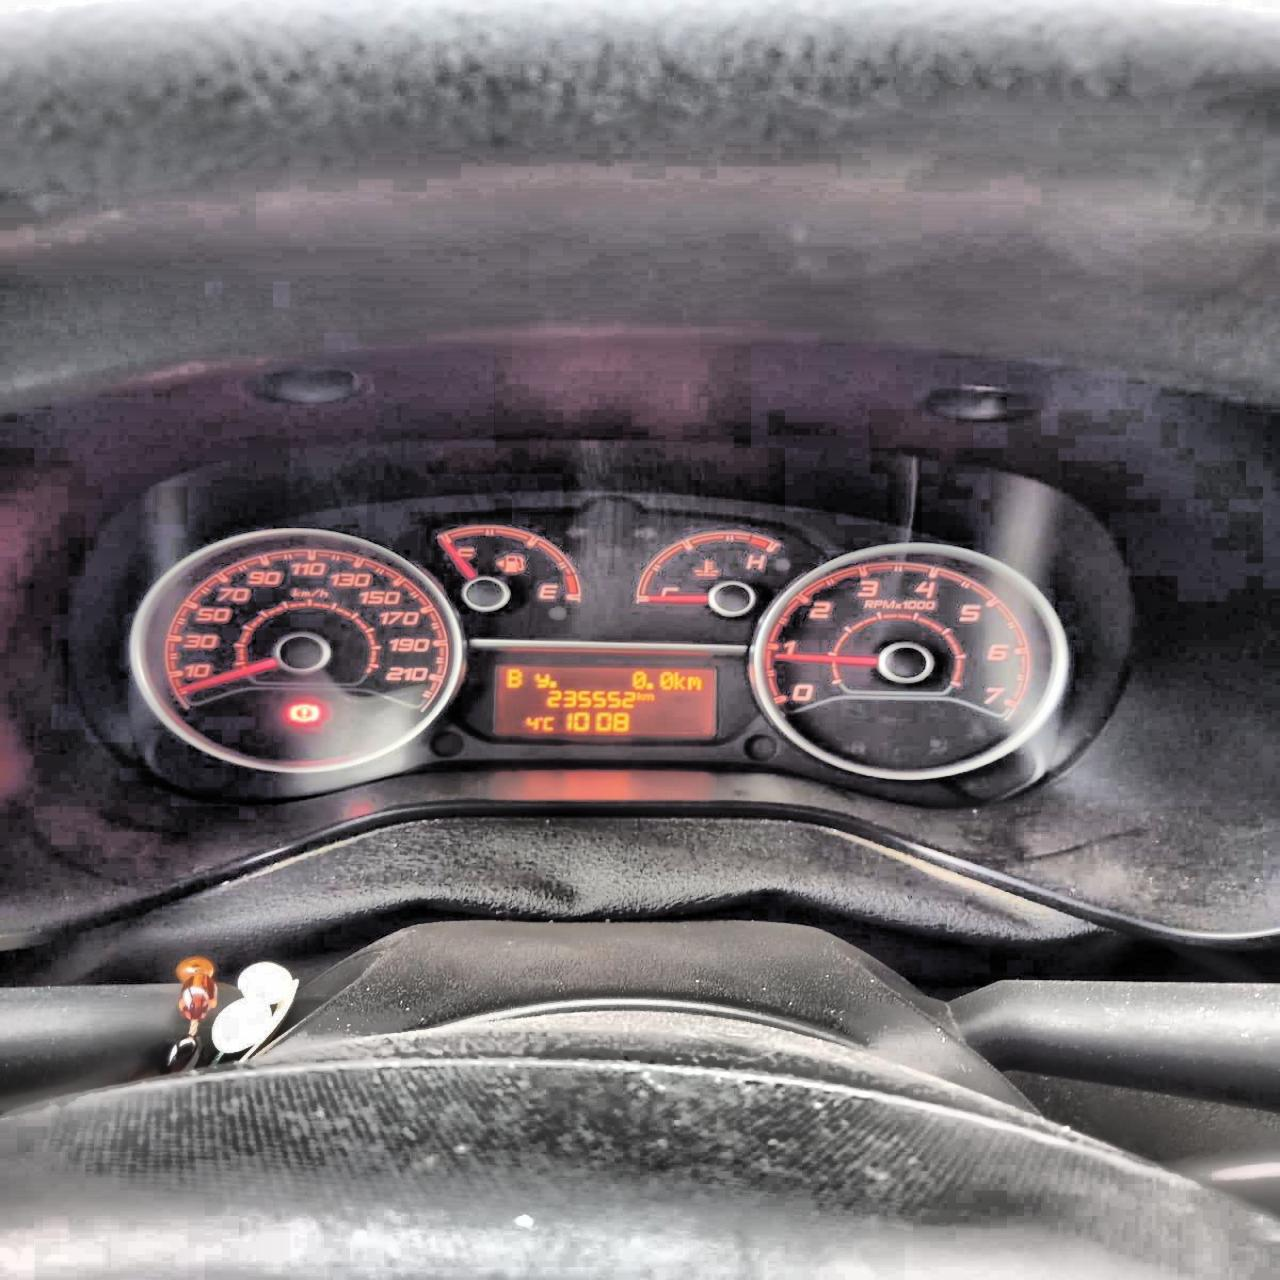-: (645, 681, 653, 689), (549, 680, 556, 688)
0: (572, 712, 590, 731), (594, 712, 611, 731), (658, 670, 673, 690), (631, 669, 646, 688)
1: (565, 713, 573, 730)
2: (545, 689, 561, 707), (620, 690, 634, 708)
3: (561, 689, 576, 707)
4: (524, 716, 538, 729)
5: (606, 690, 621, 708), (591, 690, 606, 708), (576, 689, 591, 707)
8: (613, 712, 629, 731)
X: (504, 668, 522, 688), (533, 672, 550, 688), (686, 675, 702, 690), (673, 672, 685, 690), (542, 715, 553, 731), (642, 693, 654, 701), (635, 690, 642, 700)
odometer: (490, 662, 716, 740)
